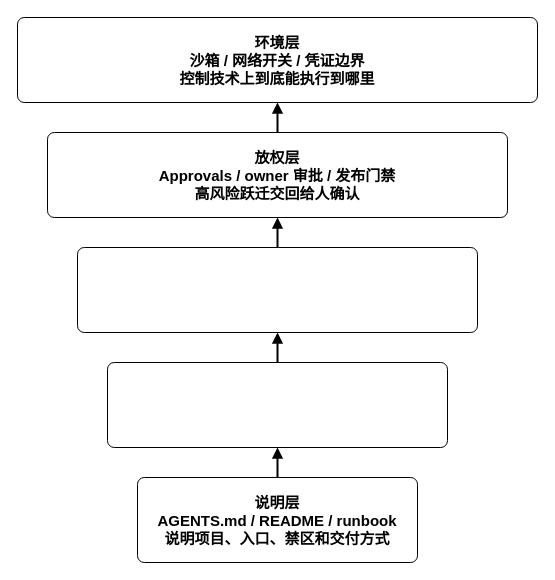
Some shapes in this 555 by 580 pixel diagram are drawn without their labels. Here are the shapes that lost their labels. From the top down, the centre of each, then its label:
At (277,289): "自动动作层 Hooks / 脚本 / CI 检查 自动格式化、测试、审计、阻断".
At (277,405): "规则层 Rules / 目录级规则 / 分支策略 定义长期成立的约束".
